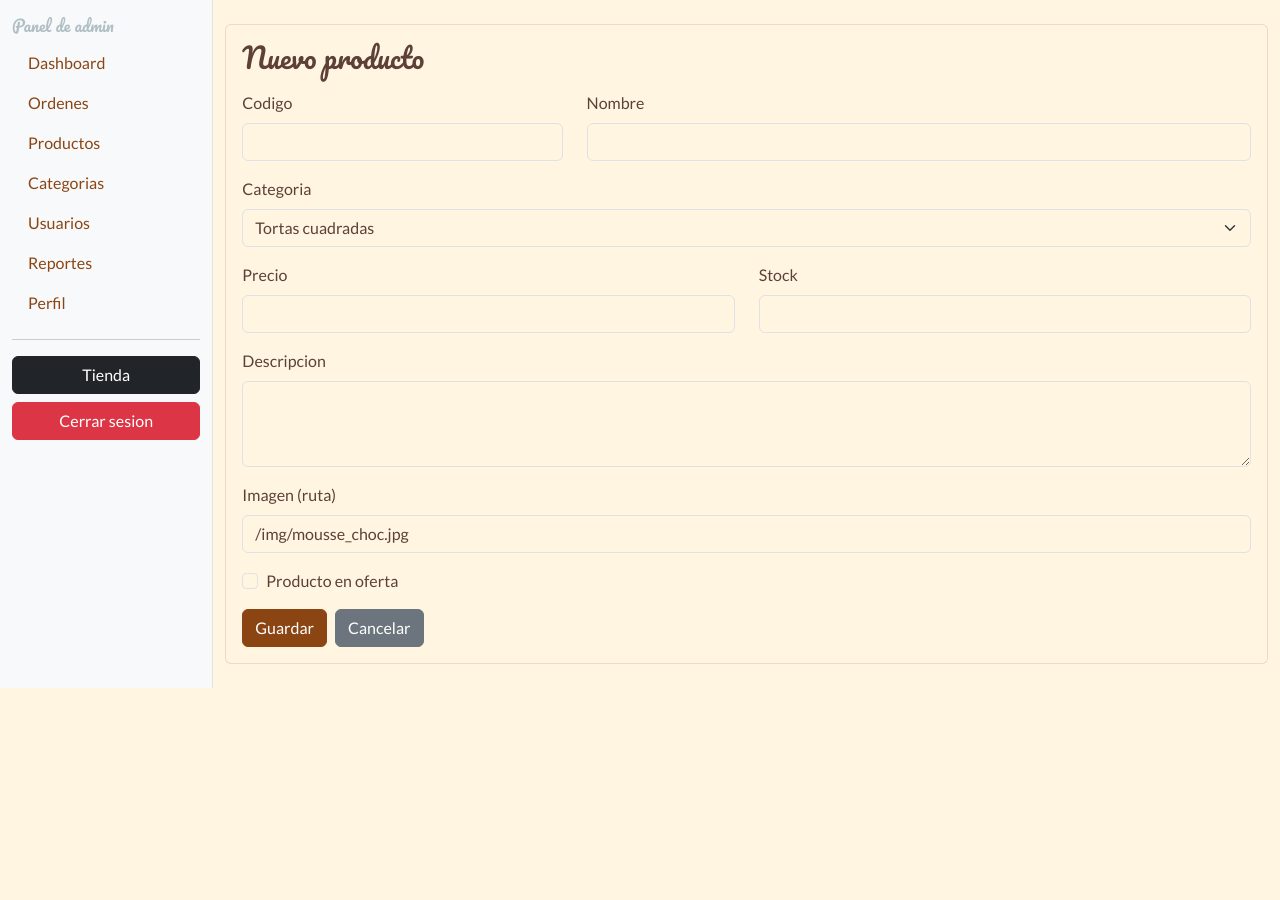
Scenario: Panel de admin › crea un producto nuevo desde el formulario
In the field labelled "Codigo": (402, 142) [242, 123, 562, 161], type "X1"
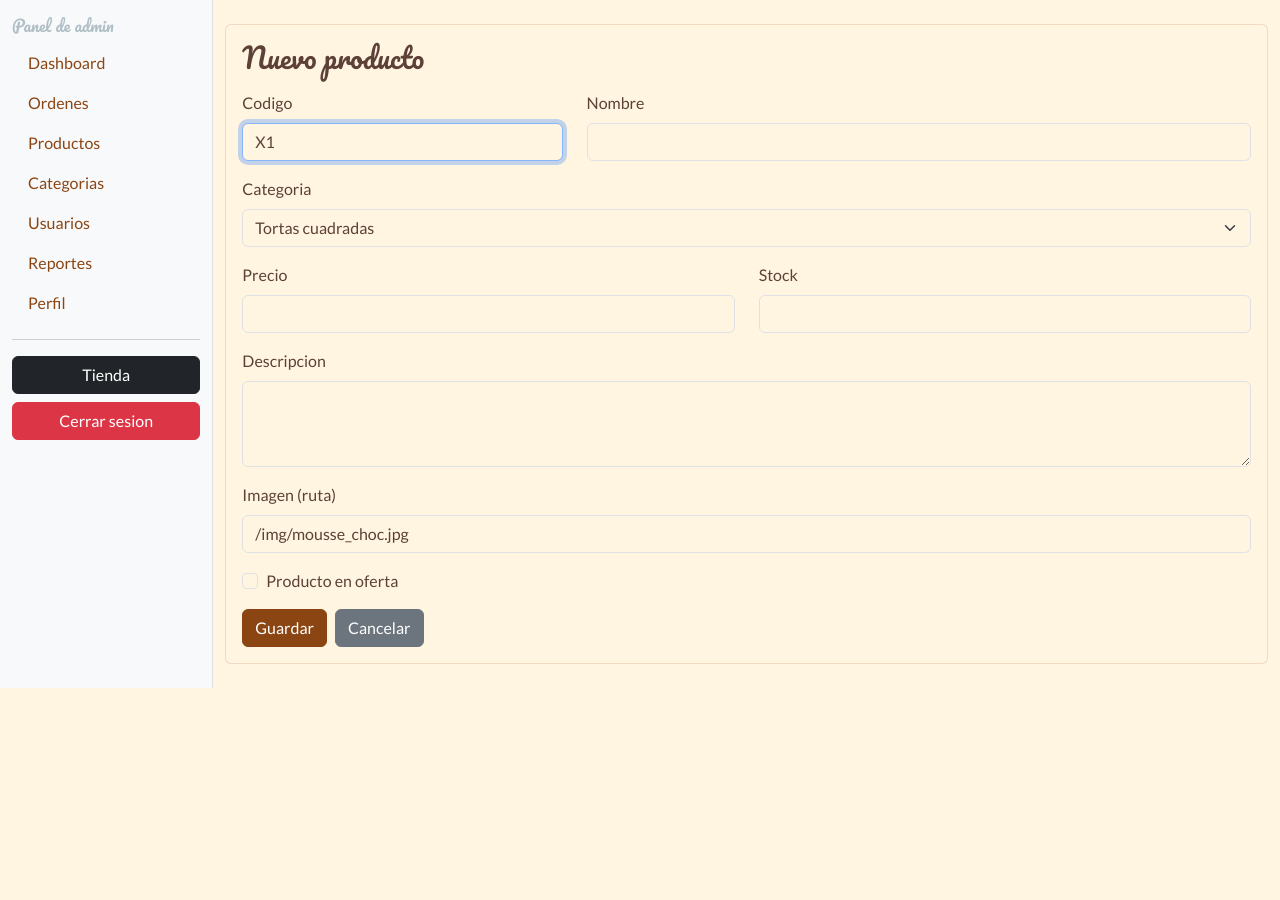
In the field labelled "Nombre": (919, 142) [586, 123, 1251, 161], type "Alfajor"
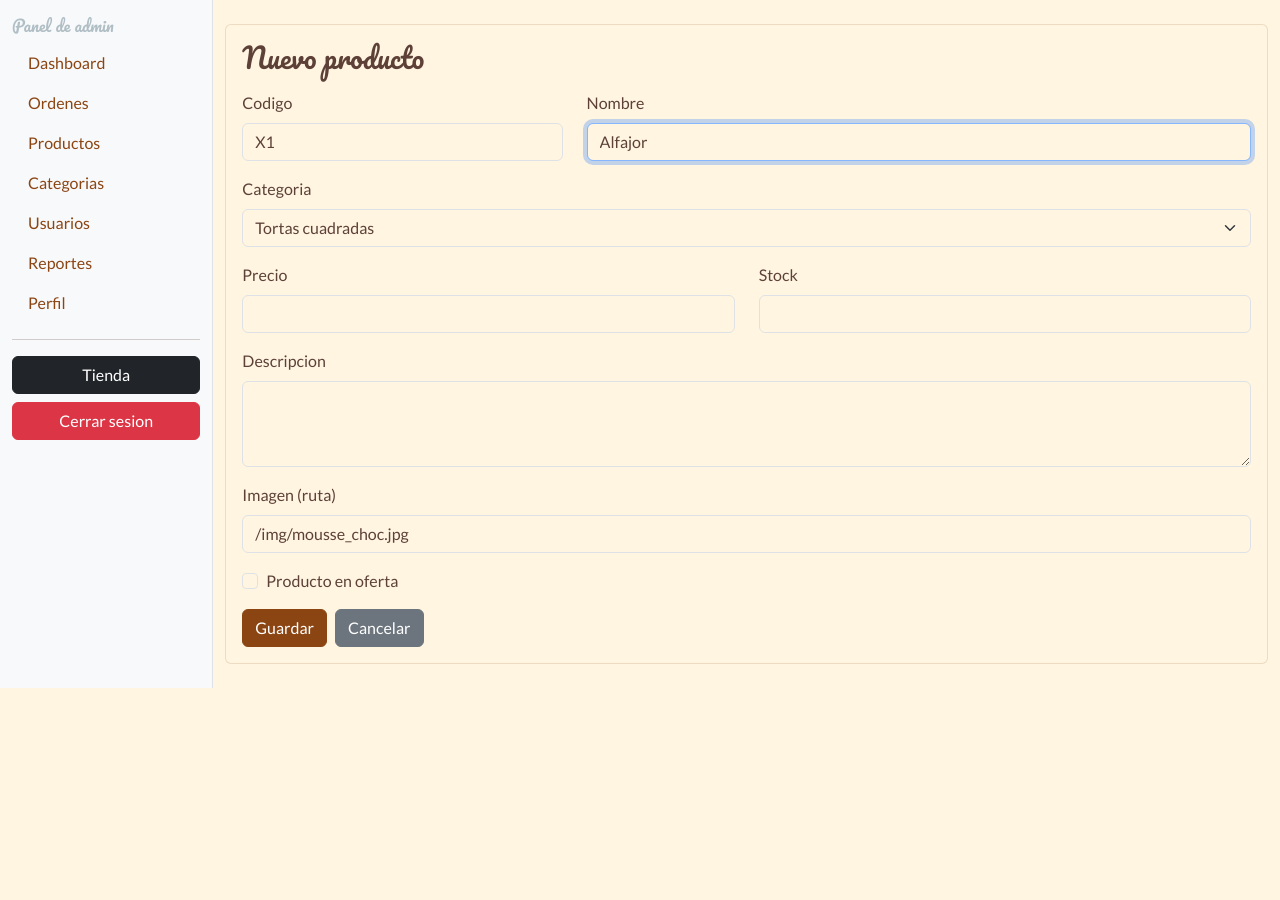
In the number field labelled "Precio": (488, 314) [242, 295, 735, 333], type "1500"
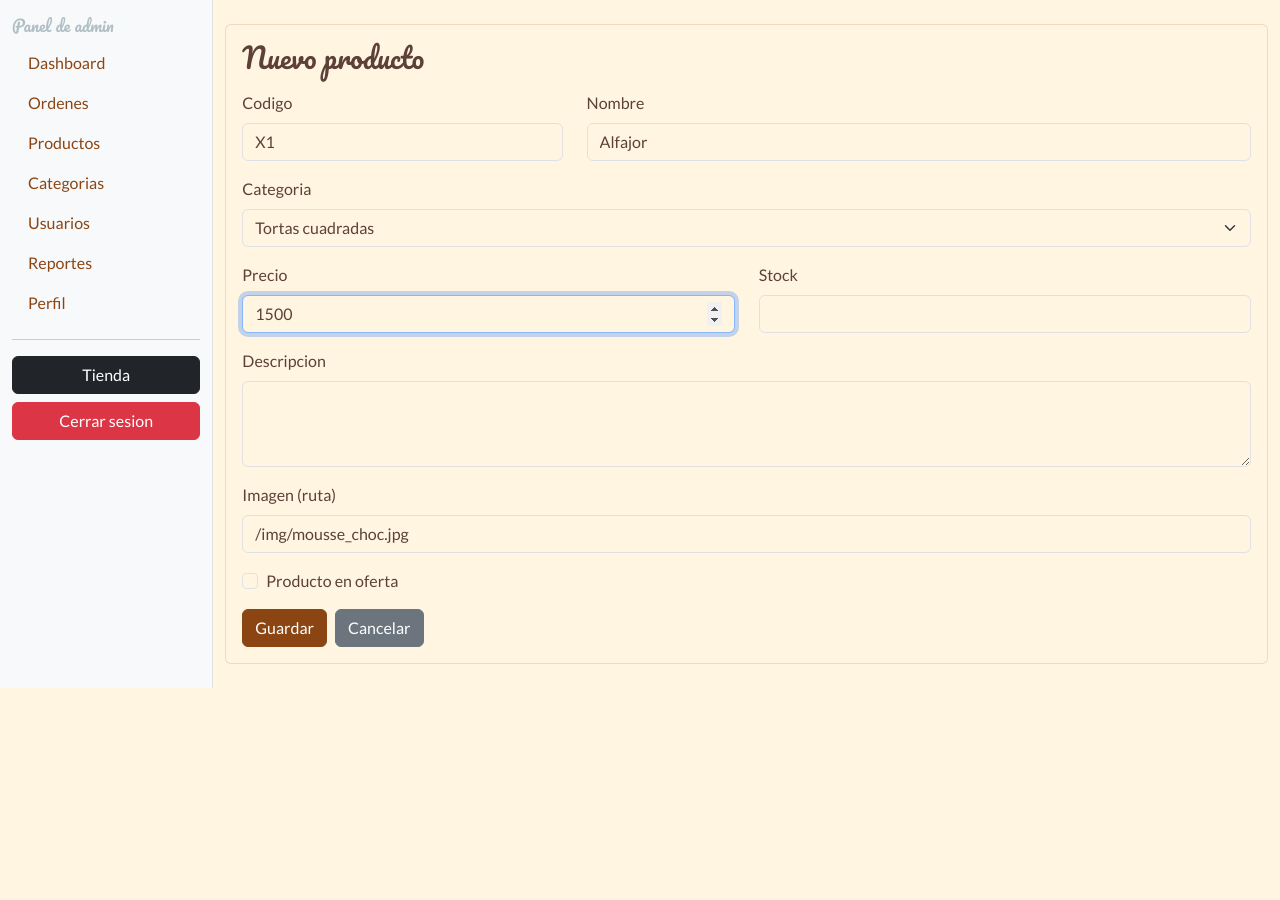
In the number field labelled "Stock": (1005, 314) [759, 295, 1251, 333], type "10"
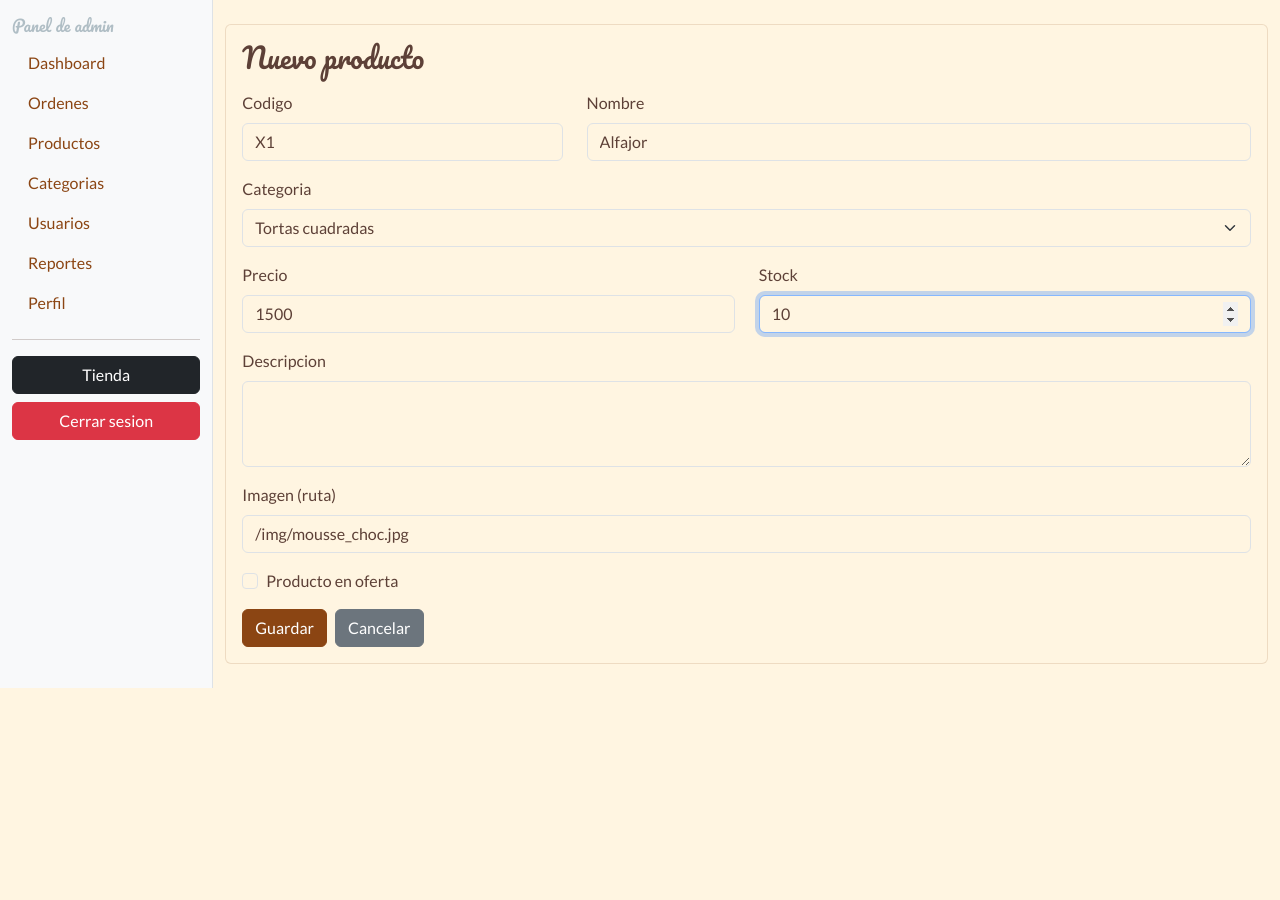
Click the button "Guardar": (285, 628) [242, 609, 327, 647]
(page scrolled)
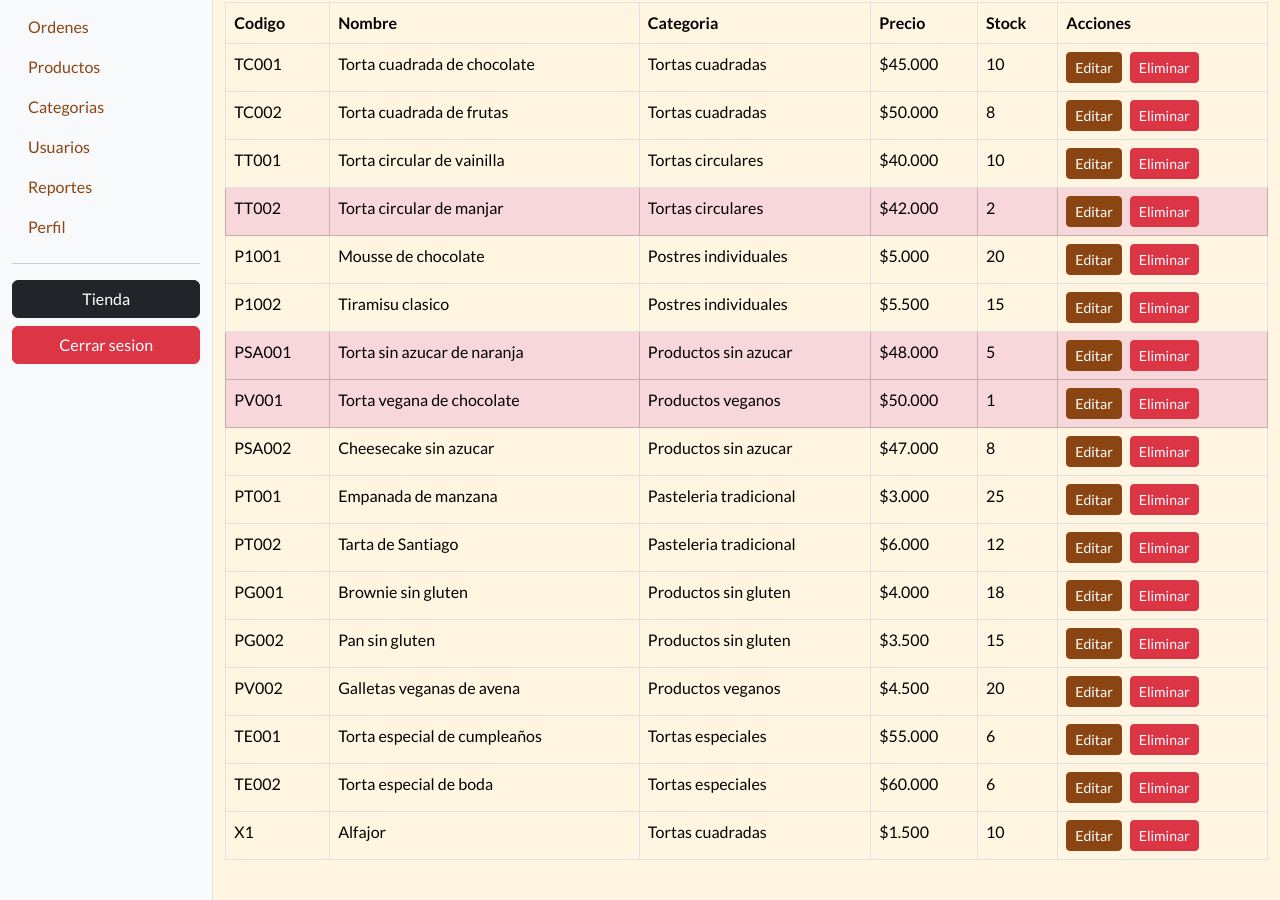
expect the cell "Alfajor" is shown: met, box [330, 812, 639, 860]
